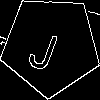J: (25, 20, 65, 73)
